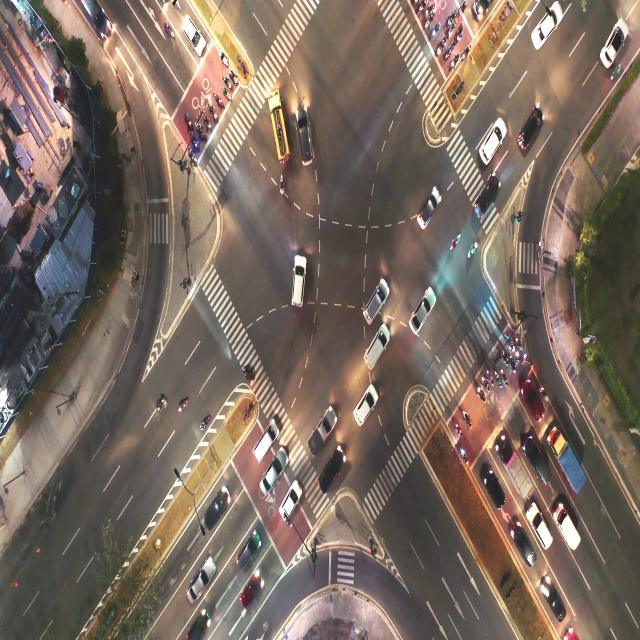bus: (274, 127, 284, 150)
car: (321, 460, 343, 488), (292, 277, 306, 305), (412, 303, 427, 329), (93, 2, 106, 29), (286, 488, 300, 513), (366, 293, 377, 324), (192, 618, 206, 640), (209, 503, 221, 527), (268, 466, 283, 485), (257, 438, 271, 458), (242, 544, 254, 567), (480, 188, 491, 213), (522, 125, 534, 147), (300, 134, 309, 163), (423, 198, 432, 227), (193, 574, 206, 594), (486, 132, 496, 158), (551, 589, 562, 612), (608, 35, 618, 60), (540, 19, 551, 40), (540, 524, 552, 542), (531, 390, 540, 414), (537, 452, 546, 475), (245, 584, 256, 602), (356, 406, 367, 423), (490, 485, 501, 502), (372, 341, 379, 363), (188, 24, 196, 42), (519, 540, 527, 554)
motorcycle: (162, 18, 174, 38), (612, 64, 622, 85), (155, 399, 166, 415), (178, 399, 188, 415), (469, 241, 476, 260), (280, 174, 286, 194), (202, 412, 209, 429), (449, 236, 458, 249), (245, 368, 253, 382), (464, 47, 470, 61), (185, 111, 191, 123), (190, 150, 196, 162), (221, 54, 227, 65), (480, 374, 486, 385), (418, 4, 424, 15), (459, 452, 466, 461), (455, 422, 460, 434), (478, 389, 484, 399), (431, 29, 438, 37), (457, 31, 462, 42), (460, 4, 465, 15), (541, 386, 546, 396), (216, 96, 222, 104), (426, 6, 432, 14), (209, 108, 214, 117), (465, 415, 470, 424), (500, 368, 505, 377), (204, 115, 208, 126), (487, 370, 491, 380), (524, 352, 528, 362), (449, 28, 453, 38), (494, 370, 498, 379), (437, 46, 441, 55), (452, 58, 456, 66), (446, 50, 450, 58), (448, 18, 452, 26), (426, 21, 430, 29), (502, 351, 505, 361), (510, 357, 513, 367), (224, 89, 228, 96), (230, 73, 234, 80), (199, 127, 202, 135), (223, 77, 227, 83), (509, 341, 512, 349), (515, 352, 520, 356), (193, 138, 195, 146), (516, 338, 518, 342)
truck: (561, 442, 575, 476), (313, 416, 329, 445), (564, 517, 573, 546), (510, 455, 520, 476)
